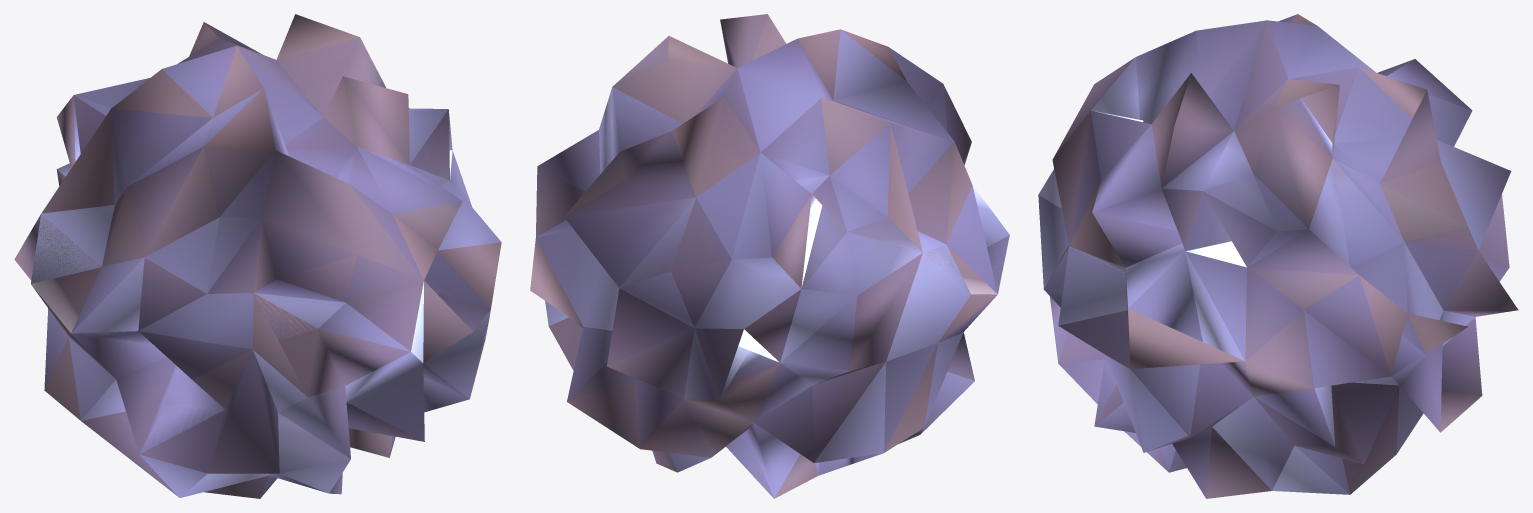
File: LUFINDORSFERAXFUERZAYVELOCIDAD.glb
The picture shows the model from 3 angles, left to right: view 1: azimuth 30°, elevation 25°; view 2: azimuth 150°, elevation 25°; view 3: azimuth 270°, elevation 25°; orthographic projection.
Parts seen in each view (by area): view 1: xyz; view 2: xyz; view 3: xyz.
Boxes of the visible parts, x1=… form: xyz: x1=14, y1=14, x2=501, y2=498; xyz: x1=530, y1=14, x2=1009, y2=498; xyz: x1=1038, y1=14, x2=1518, y2=498.
Bounding box in the file's own units: 3.45 × 3.43 × 3.32.
Materials: 1 (1 with a texture image).
